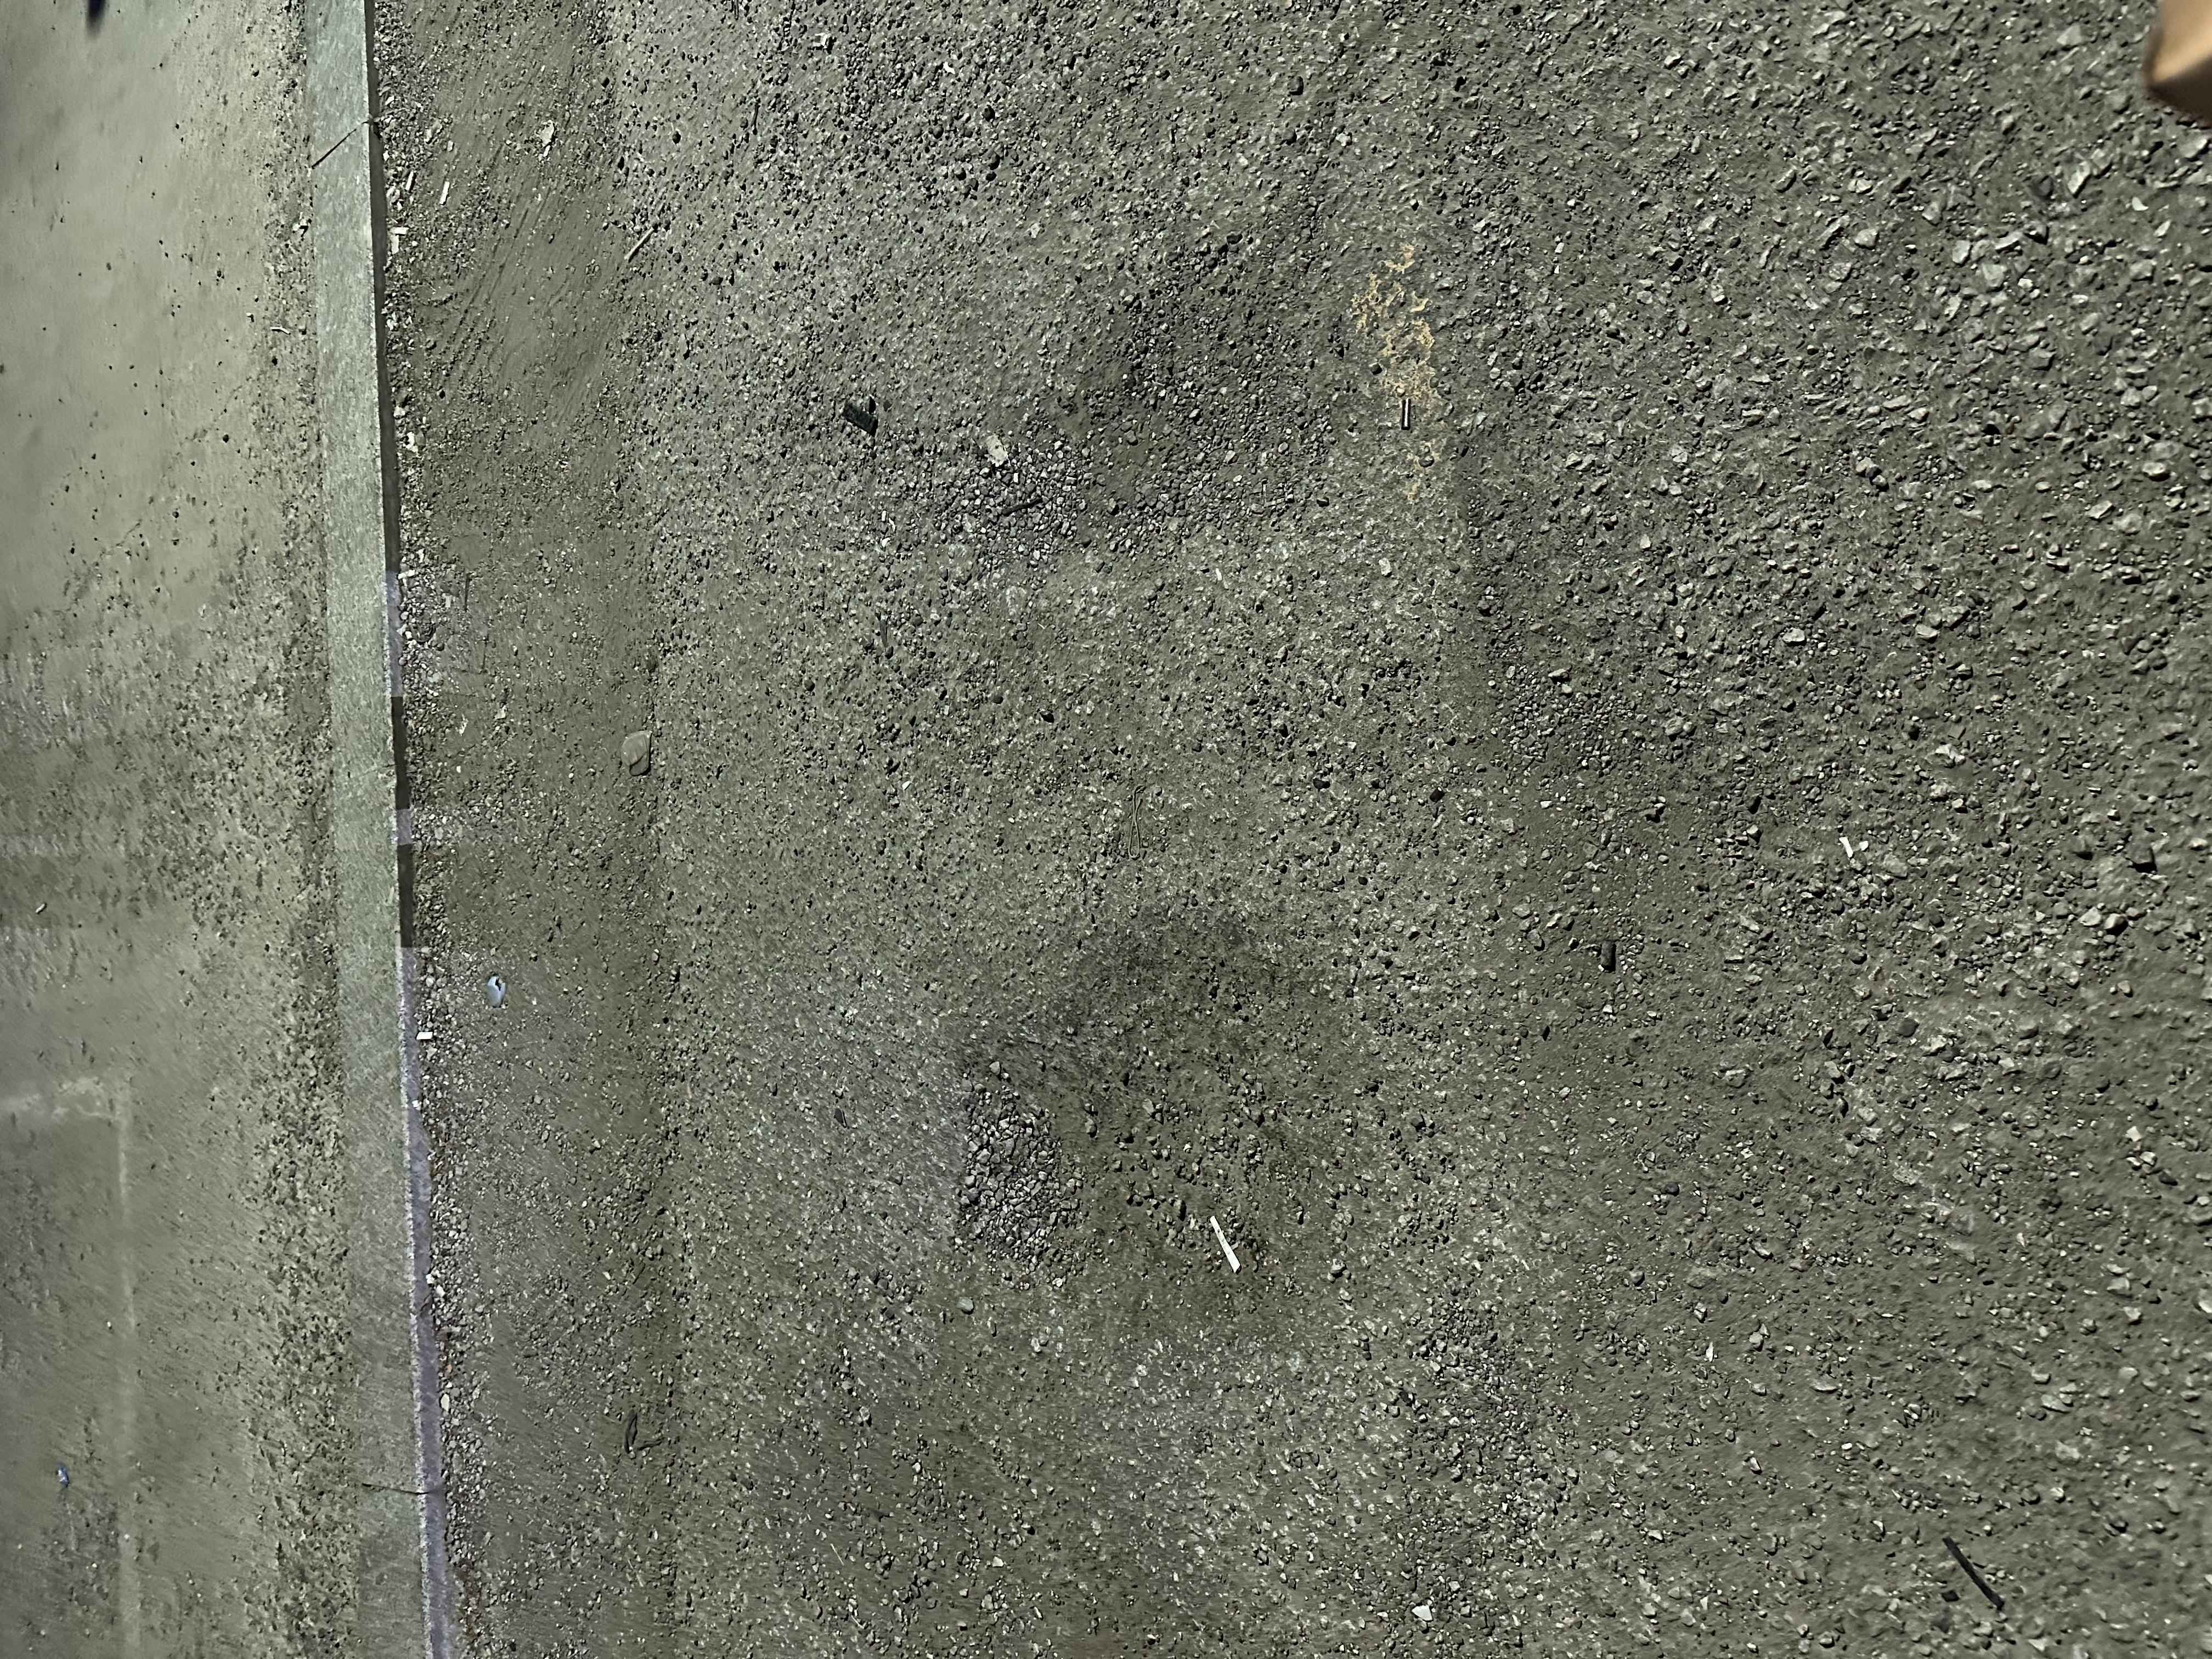pothole: (359, 708, 1101, 1066), (1397, 732, 1942, 1030)
